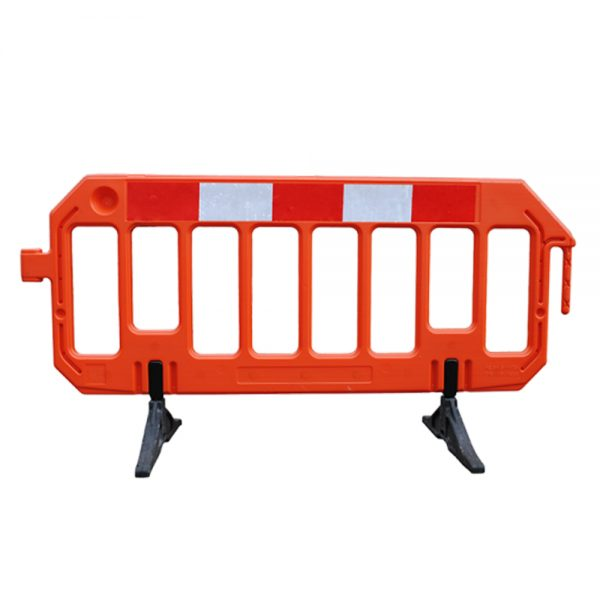Barrier: (2, 167, 576, 496)
